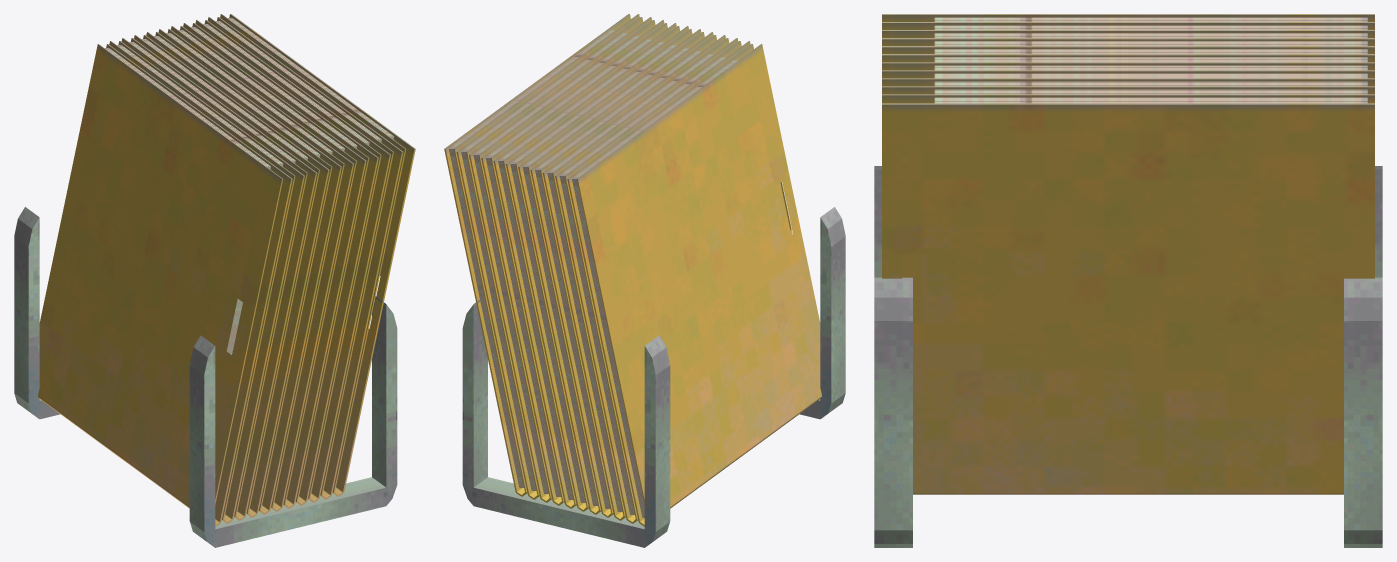
File: Folders.fbx
3 renders of one model, left to right at view 1: azimuth 30°, elevation 25°; view 2: azimuth 150°, elevation 25°; view 3: azimuth 270°, elevation 25°, orthographic. The views are drawn at different scales.
Visible parts, largest first — view 1: Folder, Holder; view 2: Folder, Holder; view 3: Folder, Holder.
Boxes of the visible parts, x1,y1,x2,y2 form: Folder: (38, 14, 415, 526); Holder: (14, 207, 397, 547); Folder: (444, 14, 821, 526); Holder: (462, 207, 845, 547); Folder: (882, 14, 1374, 494); Holder: (874, 166, 1382, 547).
Size of the model in its own units: 0.1071 by 0.167 by 0.1644.
Materials: 2 (2 with a texture image).
